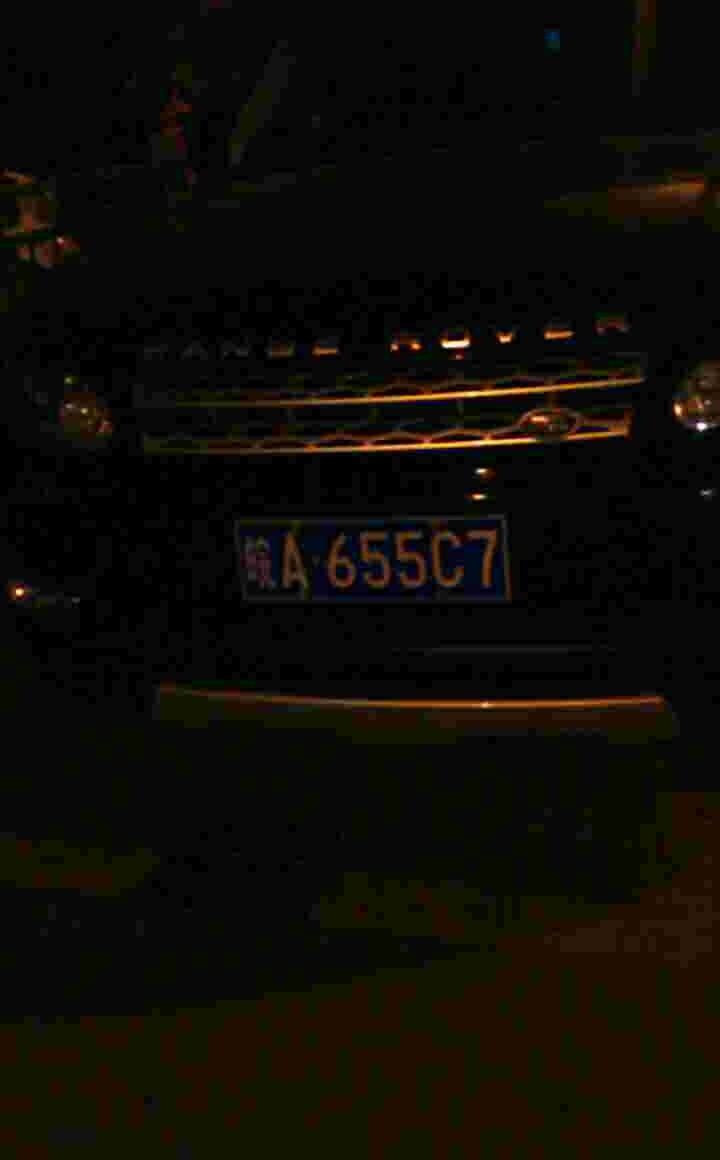license_plate: (227, 513, 519, 601)
